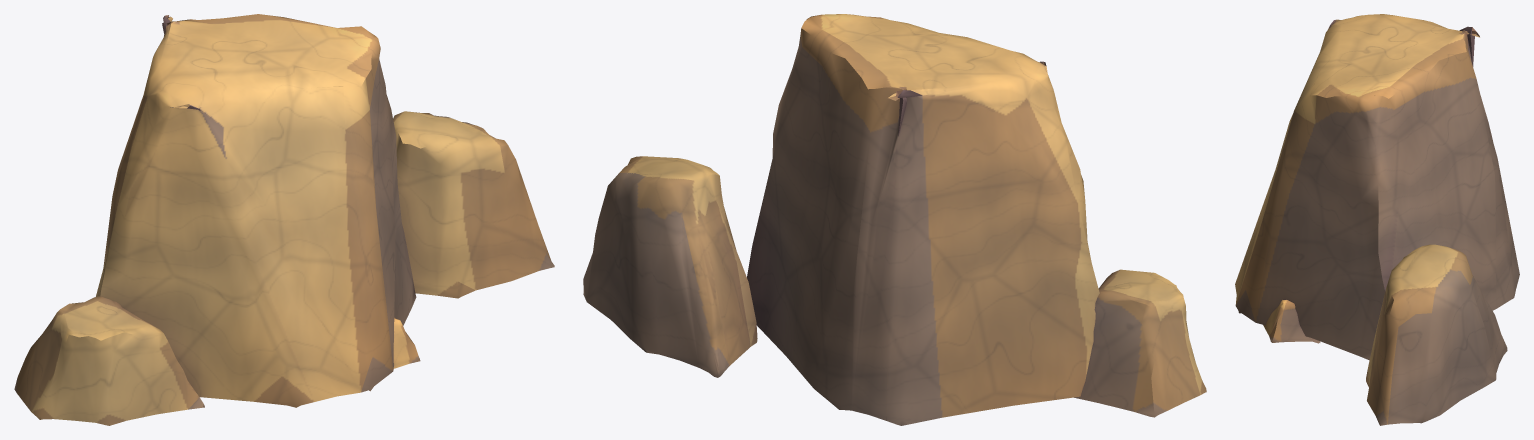
File: V05_StoneCluster.fbx
3 views of the same model, side by side, from view 1: azimuth 30°, elevation 25°; view 2: azimuth 150°, elevation 25°; view 3: azimuth 270°, elevation 25° (orthographic). The views are drawn at different scales.
Visible parts, largest first — view 1: V05_StoneCluster; view 2: V05_StoneCluster; view 3: V05_StoneCluster.
Boxes of the visible parts, <box> form: V05_StoneCluster: <box>14,14,554,425</box>; V05_StoneCluster: <box>583,14,1206,425</box>; V05_StoneCluster: <box>1235,14,1519,425</box>.
Bounding box in the file's own units: 1.9 × 0.99 × 0.99.
